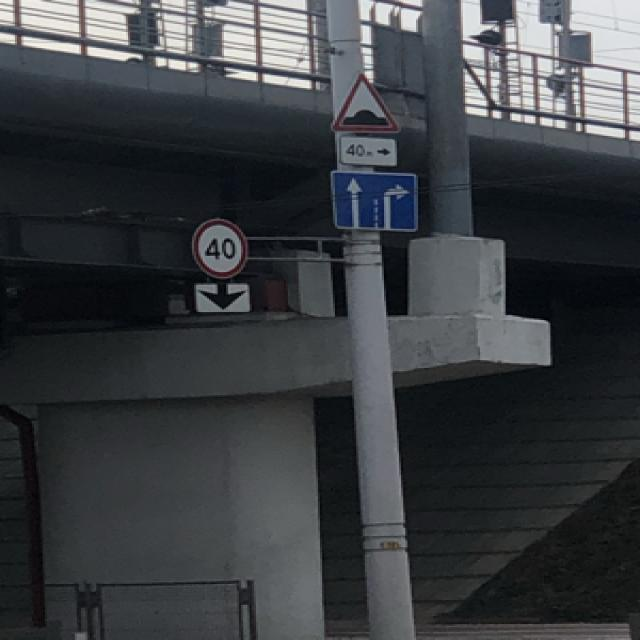speedlimit: (190, 218, 243, 276)
